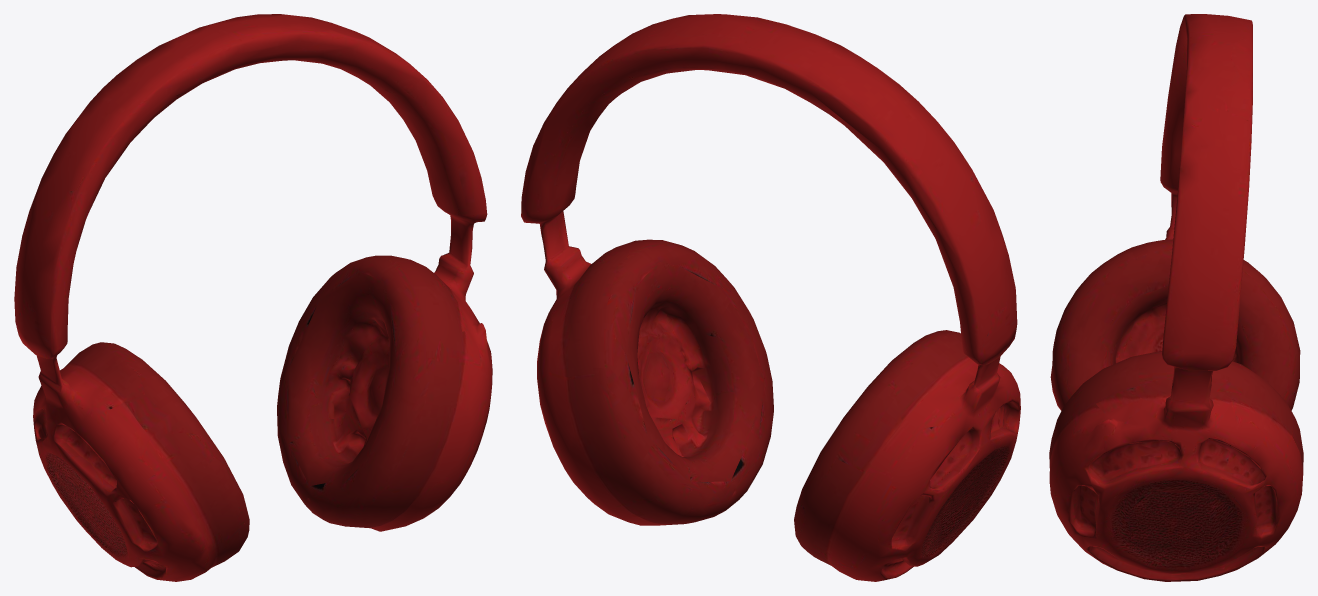
Rendered from fone_vermelho.glb.
3 renders of one model, left to right at view 1: azimuth 30°, elevation 25°; view 2: azimuth 150°, elevation 25°; view 3: azimuth 270°, elevation 25°, orthographic. The views are drawn at different scales.
Parts seen in each view (by area): view 1: Prop_fone; view 2: Prop_fone; view 3: Prop_fone.
Part boxes in pixels (box(x1,y1,x2,y2)): Prop_fone: box(14, 14, 492, 581); Prop_fone: box(521, 14, 1020, 581); Prop_fone: box(1049, 14, 1303, 581).
Bounding box in the file's own units: 0.184 × 0.2 × 0.0942.
1 material, 1 textured.
